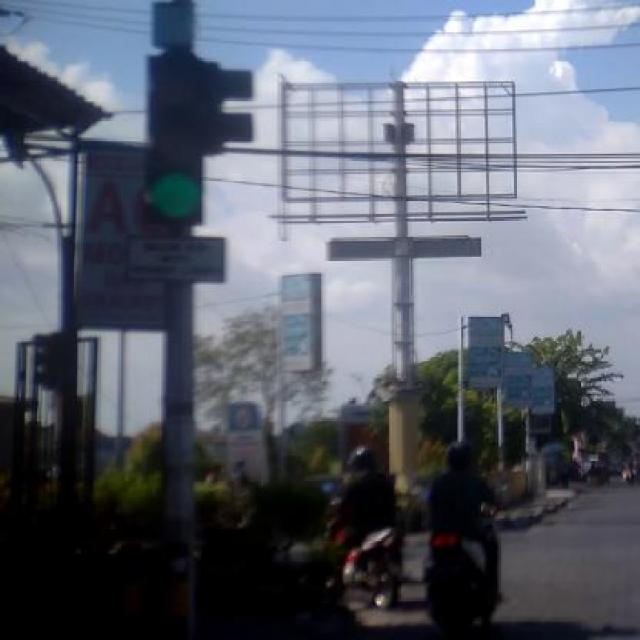traffic light: (148, 54, 208, 235)
